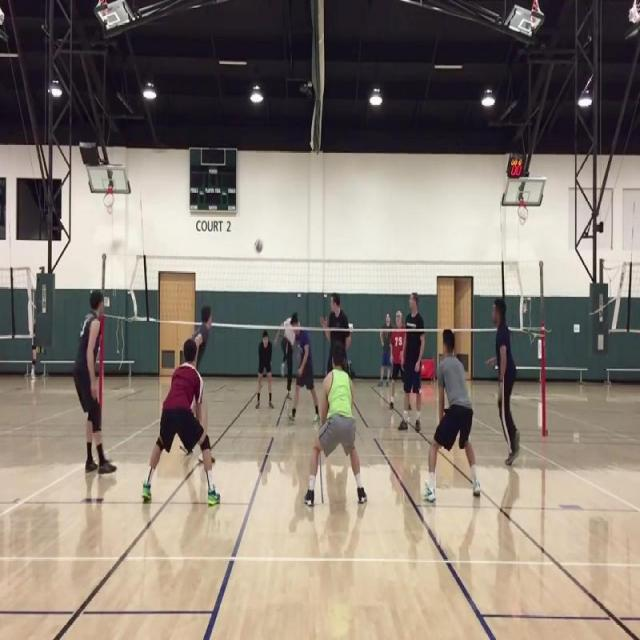volleyball: (254, 236, 263, 254)
